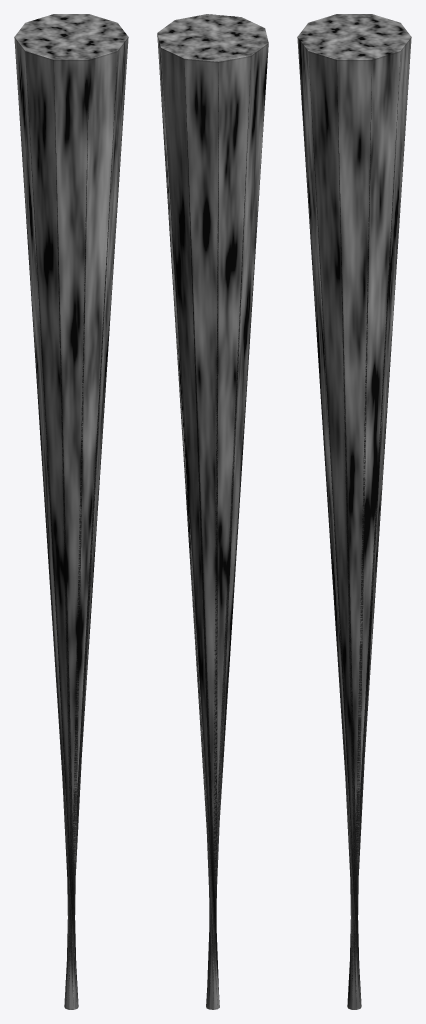
File: baseball_bat.glb
3 renders of one model, left to right at view 1: azimuth 90°, elevation 25°; view 2: azimuth 150°, elevation 25°; view 3: azimuth 270°, elevation 25°, orthographic.
Parts seen in each view (by area): view 1: baseball_bat; view 2: baseball_bat; view 3: baseball_bat.
Part boxes in pixels (left/top/right/bottom): baseball_bat: left=14, top=14, right=128, bottom=1009; baseball_bat: left=157, top=14, right=268, bottom=1009; baseball_bat: left=297, top=14, right=411, bottom=1009.
Size of the model in its own units: 0.0761 by 0.75 by 0.08.
Materials: 1 (1 with a texture image).
